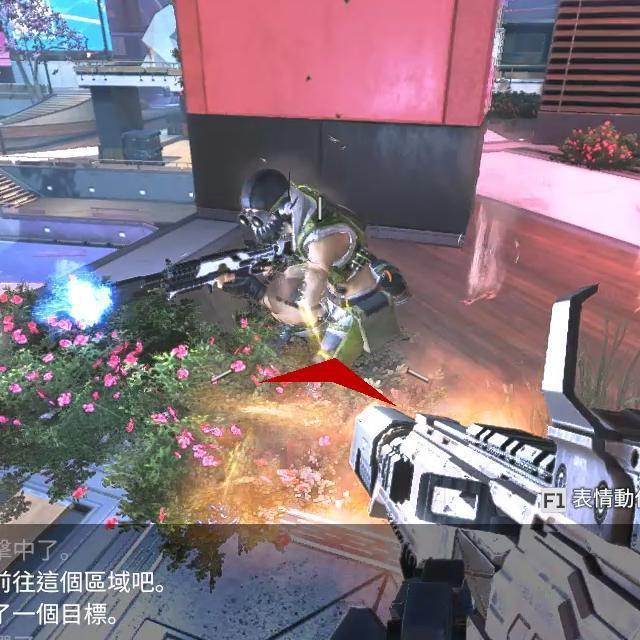avatar: (234, 166, 395, 371)
